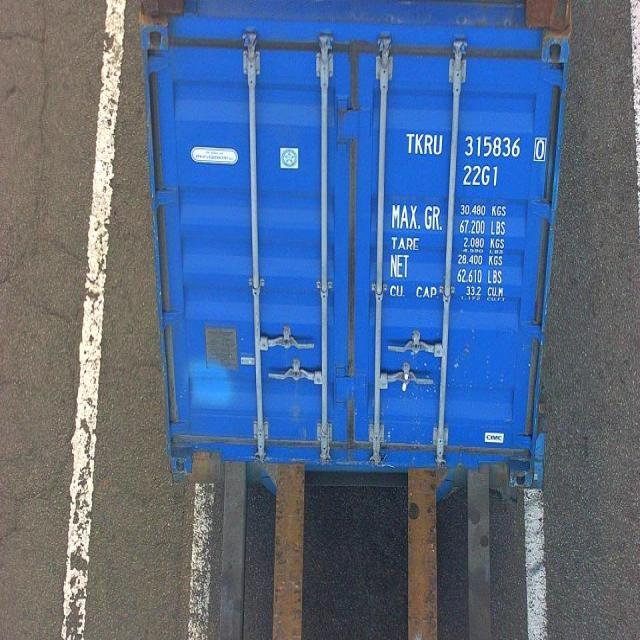ISO: (462, 163, 498, 185)
container_number: (403, 136, 547, 162)
